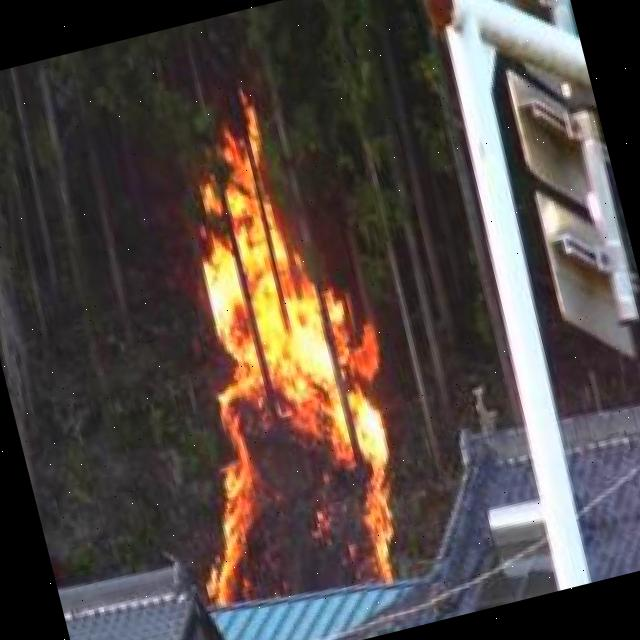fire: (124, 124, 424, 620)
